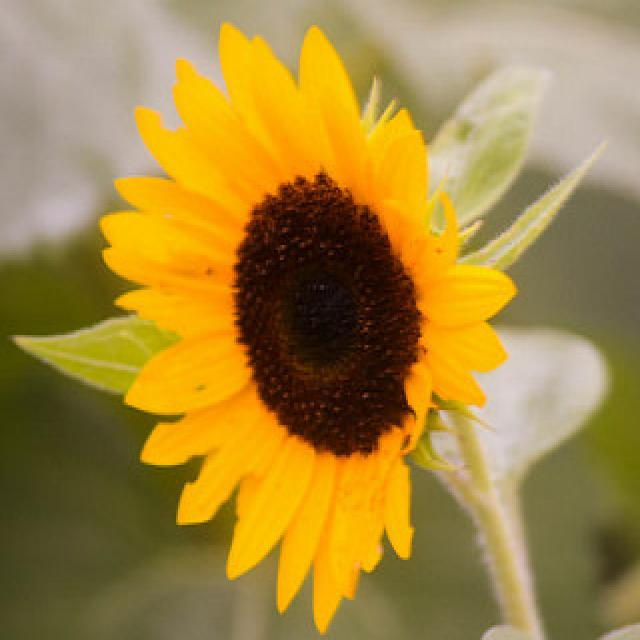sunflower: (88, 28, 532, 630)
